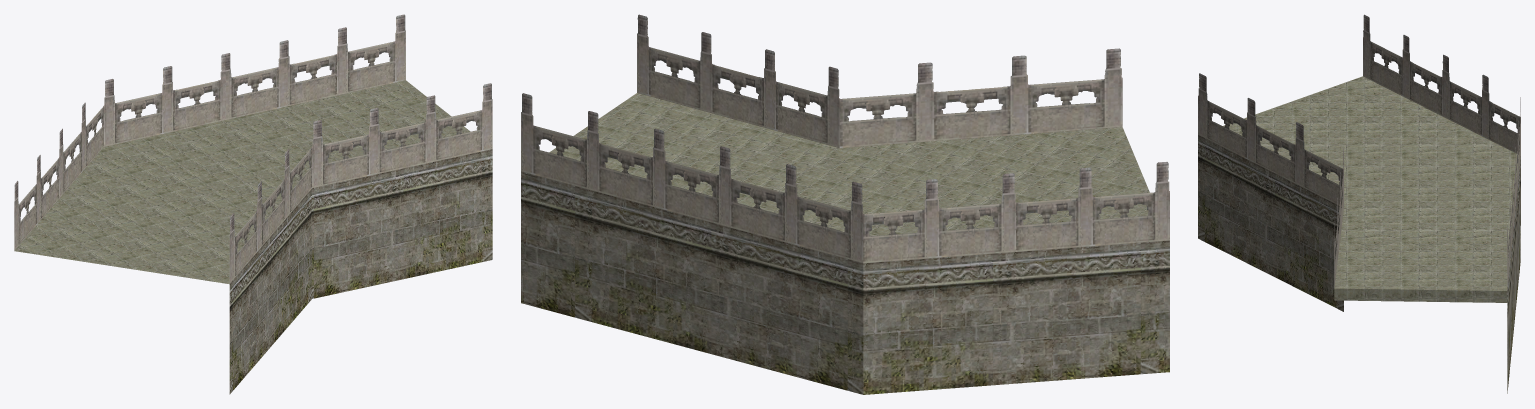
The model's file is cj_pal_south_brid04.glb.
3 renders of one model, left to right at view 1: azimuth 30°, elevation 25°; view 2: azimuth 150°, elevation 25°; view 3: azimuth 270°, elevation 25°, orthographic. The views are drawn at different scales.
Parts seen in each view (by area): view 1: CJ_pal_south_brid04_floor, CJ_pal_south_brid04_wall, CJ_pal_south_brid04_fence_al; view 2: CJ_pal_south_brid04_wall, CJ_pal_south_brid04_fence_al, CJ_pal_south_brid04_floor; view 3: CJ_pal_south_brid04_floor, CJ_pal_south_brid04_wall, CJ_pal_south_brid04_fence_al.
Boxes of the visible parts, <box> form: CJ_pal_south_brid04_floor: <box>14,80,470,284</box>; CJ_pal_south_brid04_wall: <box>229,149,492,394</box>; CJ_pal_south_brid04_fence_al: <box>14,14,492,283</box>; CJ_pal_south_brid04_wall: <box>521,171,1169,394</box>; CJ_pal_south_brid04_fence_al: <box>521,14,1169,263</box>; CJ_pal_south_brid04_floor: <box>549,93,1149,236</box>; CJ_pal_south_brid04_floor: <box>1223,76,1518,302</box>; CJ_pal_south_brid04_wall: <box>1198,135,1520,393</box>; CJ_pal_south_brid04_fence_al: <box>1198,14,1520,289</box>.
Bounding box in the file's own units: 11.17 × 4.03 × 7.09.
Materials: 3 (3 with a texture image).
